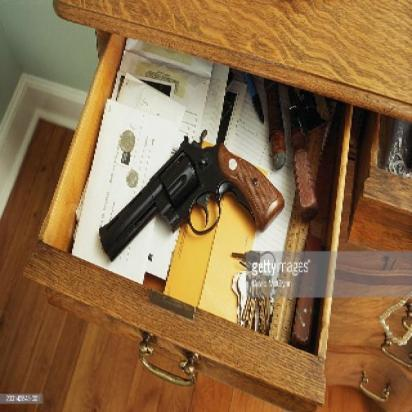Gun: (96, 128, 286, 260)
